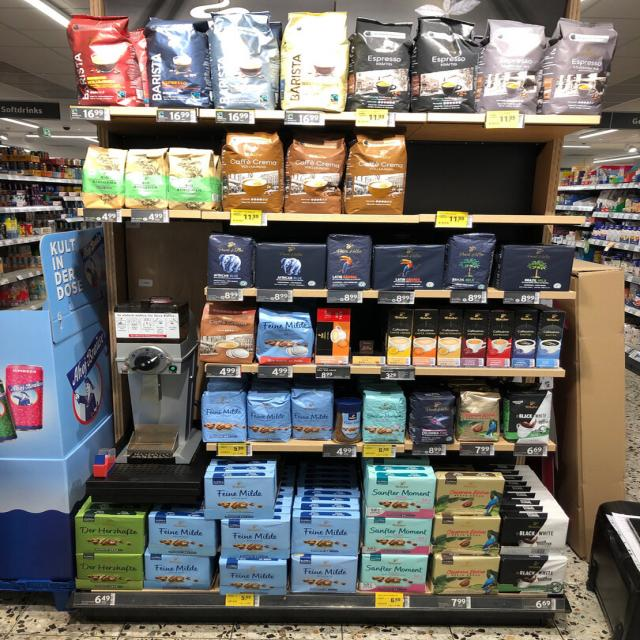AB Bohne: (207, 232, 253, 288)
AB Gemahlen: (254, 242, 326, 289)
Athiopien Bohne: (81, 144, 124, 210)
Athiopien Gemahlen: (168, 148, 216, 212), (124, 147, 168, 209)
BM Bohne: (448, 232, 496, 290)
BM Gemahlen: (498, 243, 574, 292)
BW Bohne: (505, 389, 553, 444)
BW Gemahlen: (501, 516, 571, 556), (501, 558, 566, 596)
Barista CB: (282, 11, 348, 110)
Barista CC: (210, 10, 280, 110)
Barista Espresso: (147, 13, 211, 107)
Barista Kolumbien: (67, 11, 142, 108)
C Fino Bohne: (414, 393, 456, 447)
CC Vollmundig: (200, 302, 255, 364)
CC Vollmundig 36 Pads: (348, 131, 408, 215), (222, 128, 282, 212), (284, 131, 344, 213)
Colombia BB Bohne: (458, 391, 501, 443)
Colombia BB Gemahlen: (436, 476, 506, 516), (432, 556, 500, 597), (435, 517, 501, 556)
Empty Shelf: (409, 130, 587, 216), (352, 309, 387, 357)
Espresso Kraftig: (416, 13, 478, 113), (352, 15, 412, 111)
Espresso M Art: (548, 14, 620, 114), (482, 15, 544, 114)
FM 36 Pads: (258, 306, 314, 366)
FM Bohne: (200, 391, 248, 441), (247, 390, 291, 444), (292, 388, 334, 442)
FM Gemahlen: (204, 475, 274, 519), (149, 514, 217, 556), (222, 520, 290, 560), (292, 516, 360, 556), (292, 556, 357, 594), (218, 560, 286, 596), (145, 553, 211, 589)
FM Instant: (335, 398, 363, 443)
Herzhatfe Mundig: (73, 514, 145, 554), (75, 552, 144, 590)
LG Bohne: (327, 230, 372, 290)
LG Gemahlen: (373, 243, 445, 291)
SM Bohne: (364, 394, 406, 444)
SM Gemahlen: (367, 475, 436, 517), (362, 553, 428, 593), (366, 516, 432, 554)
Simo CCMild bigpack: (388, 308, 413, 364)
Simo CCVollmundig bigpack: (413, 308, 438, 366)
Simo Decaff: (438, 308, 462, 366)
Simo Es Brazil: (485, 311, 516, 367)
Simo Es Caramel: (461, 310, 490, 366)
Simo Es Kraft: (512, 310, 540, 367)
Simo Es Vanilla: (536, 311, 567, 367)
